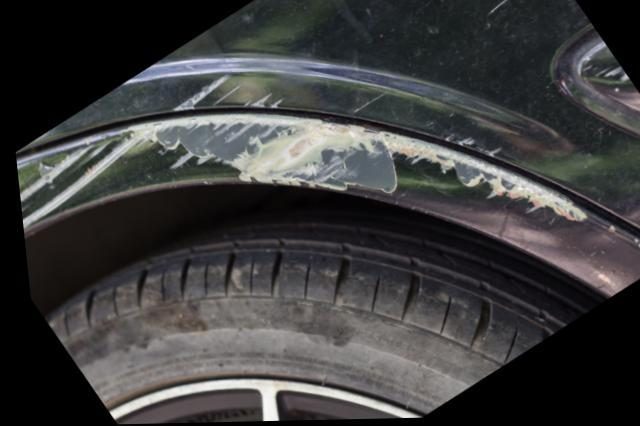scratch: (15, 113, 590, 236), (165, 72, 290, 114)
